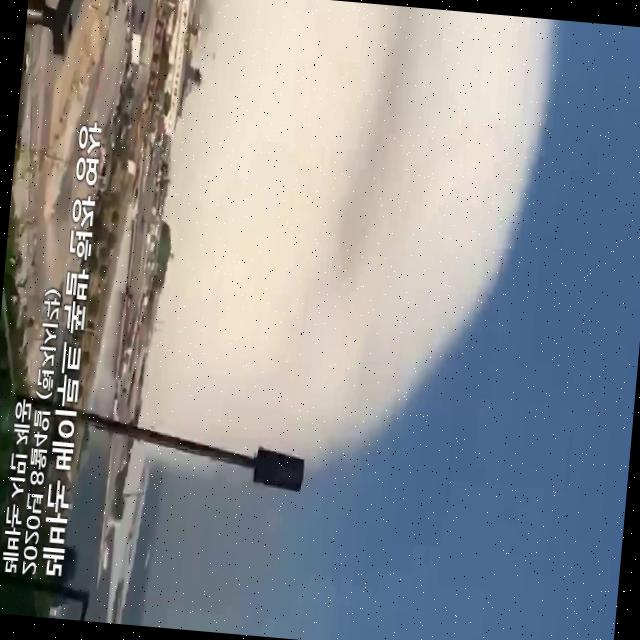explosion: (106, 0, 563, 512)
